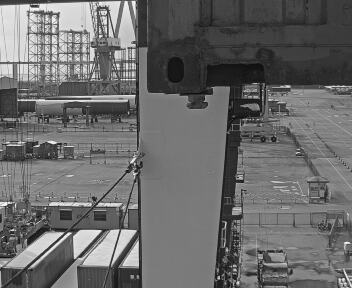twist_lock_1: (170, 84, 217, 116)
